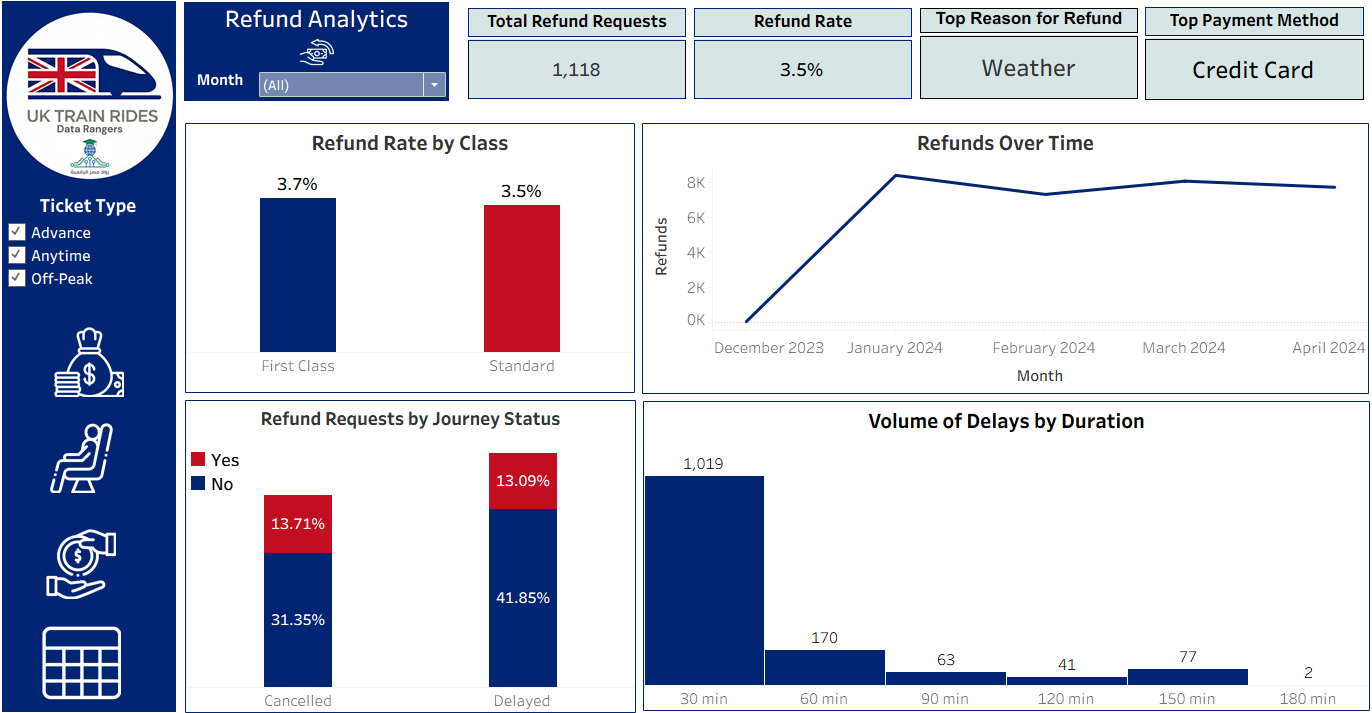

Layout of this report page (visuals, bound fields, positions):
{"tool":"tableau","page":{"name":"page 3 (Refund Analytics)","canvas":[1380,720],"ordinal":3},"visuals":[{"type":"blank","box":[2,0,174,711]},{"type":"text","box":[184,1,265,32]},{"type":"image","param":"Image/Data Rangers.png","box":[5,3,169,184]},{"type":"worksheet","title":"Total Refund Requests","mark":"Automatic","box":[464,3,226,99]},{"type":"worksheet","title":"Refund Rate","mark":"Automatic","box":[690,3,226,99]},{"type":"worksheet","title":"Sheet 37","mark":"Automatic","box":[916,3,226,99]},{"type":"worksheet","title":"Top Payment Method","mark":"Automatic","rows":["Payment Method"],"box":[1142,3,225,99]},{"type":"image","param":"Image/output-onlinepngtools(4).png","box":[184,33,265,35]},{"type":"filter","title":"Delay Duration vs Refunds","param":"[federated.1v9mgo00v5v99i13xadkg0jli41o].[none:Month:nk]","box":[184,68,265,32]},{"type":"worksheet","title":"Refund Rate by Class","mark":"Automatic","rows":["Calculation_2369737841909567498"],"cols":["Ticket Class"],"box":[185,122,450,270]},{"type":"worksheet","title":"Refunds Over Time","mark":"Automatic","rows":["Transaction ID"],"cols":["Date of Purchase"],"box":[642,122,727,271]},{"type":"filter","title":"Delay Duration vs Refunds","param":"[federated.1v9mgo00v5v99i13xadkg0jli41o].[none:Ticket Type:nk]","box":[1,191,174,114]},{"type":"dashboard-object","box":[41,326,97,70]},{"type":"worksheet","title":"Refund Requests by Journey Status","mark":"Automatic","rows":["Transaction ID"],"cols":["Journey Status"],"box":[185,399,451,313]},{"type":"worksheet","title":"Delay Duration vs Refunds","mark":"Automatic","rows":["Calculation_240942593399275521"],"cols":["Delay Duration (min) (bin)"],"box":[643,400,727,310]},{"type":"legend","title":"Refund Requests by Journey Status","param":"[federated.1v9mgo00v5v99i13xadkg0jli41o].[none:Refund Request:nk]","box":[186,420,107,76]},{"type":"dashboard-object","box":[33,422,97,70]},{"type":"dashboard-object","box":[33,528,97,70]},{"type":"dashboard-object","box":[33,622,97,79]}]}

Visuals, with their boxes in screenshot pixels (x1, y1, x2, y2), scaled from the page's 1380x720 canvas onto the 1372x713 screenshot:
blank: <region>2, 0, 175, 704</region>
text: <region>183, 1, 446, 33</region>
image: <region>5, 3, 173, 185</region>
"Total Refund Requests" worksheet: <region>461, 3, 686, 101</region>
"Refund Rate" worksheet: <region>686, 3, 911, 101</region>
"Sheet 37" worksheet: <region>911, 3, 1135, 101</region>
"Top Payment Method" worksheet: <region>1135, 3, 1359, 101</region>
image: <region>183, 33, 446, 67</region>
"Delay Duration vs Refunds" filter: <region>183, 67, 446, 99</region>
"Refund Rate by Class" worksheet: <region>184, 121, 631, 388</region>
"Refunds Over Time" worksheet: <region>638, 121, 1361, 389</region>
"Delay Duration vs Refunds" filter: <region>1, 189, 174, 302</region>
dashboard-object: <region>41, 323, 137, 392</region>
"Refund Requests by Journey Status" worksheet: <region>184, 395, 632, 705</region>
"Delay Duration vs Refunds" worksheet: <region>639, 396, 1362, 703</region>
"Refund Requests by Journey Status" legend: <region>185, 416, 291, 491</region>
dashboard-object: <region>33, 418, 129, 487</region>
dashboard-object: <region>33, 523, 129, 592</region>
dashboard-object: <region>33, 616, 129, 694</region>
